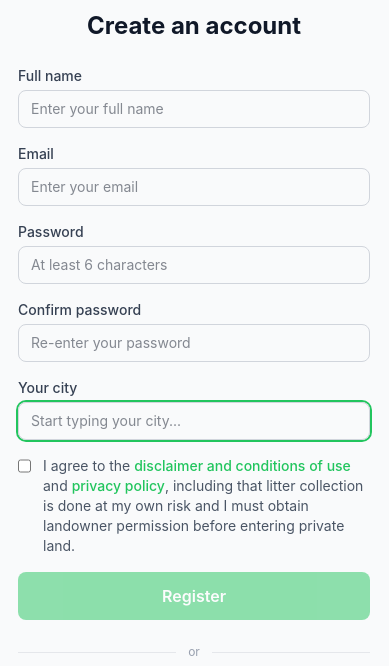
Test case: Register › selects a city and displays it
This screenshot has width=389, height=666.
Step 1. Type "Lon" into the field with placeholder "Start typing your city..." → (194, 421), box [18, 402, 370, 440]
Wait 300 ms
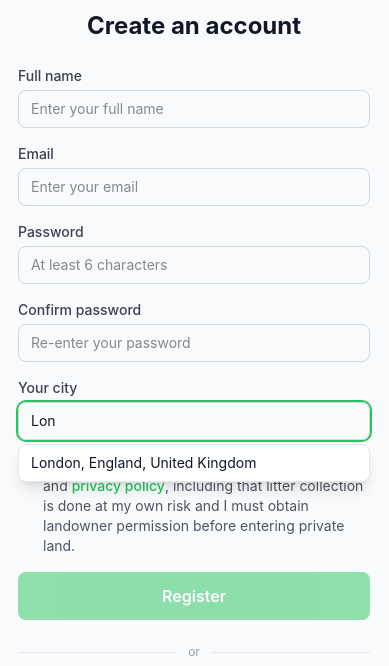
Step 2. Click the button "London, England, United Kingdom" → (194, 463), box [19, 445, 369, 481]
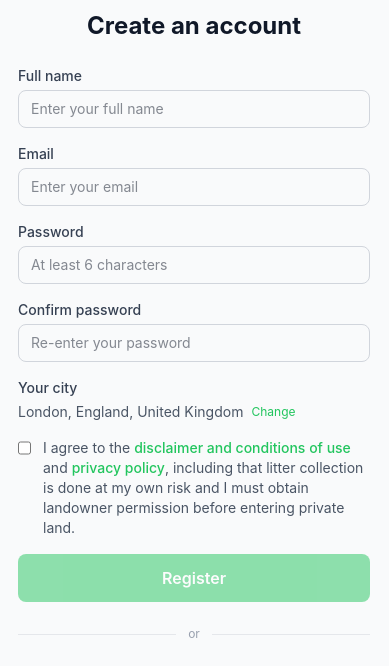
Check: the field with placeholder "Start typing your city..." is not shown
Check: the text "London, England, United Kingdom" is shown, box [18, 402, 243, 422]
Check: the button "Change" is shown, box [251, 404, 295, 420]
